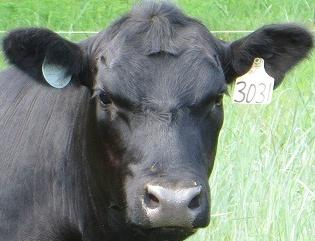muzzles: (124, 174, 215, 237)
